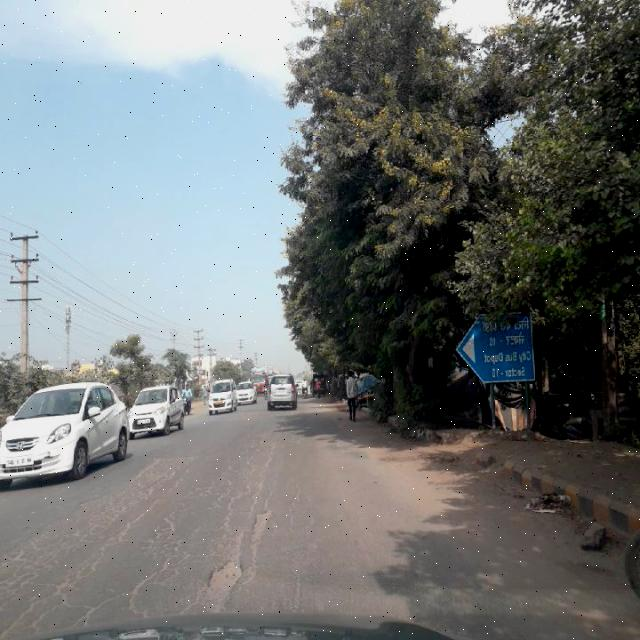D00: (186, 433, 282, 625)
D20: (1, 488, 195, 639), (131, 452, 247, 484)
D40: (198, 556, 246, 610), (246, 503, 276, 549)
